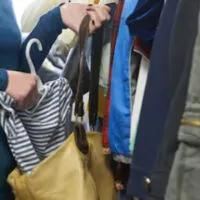shoplifting: (0, 8, 151, 200)
